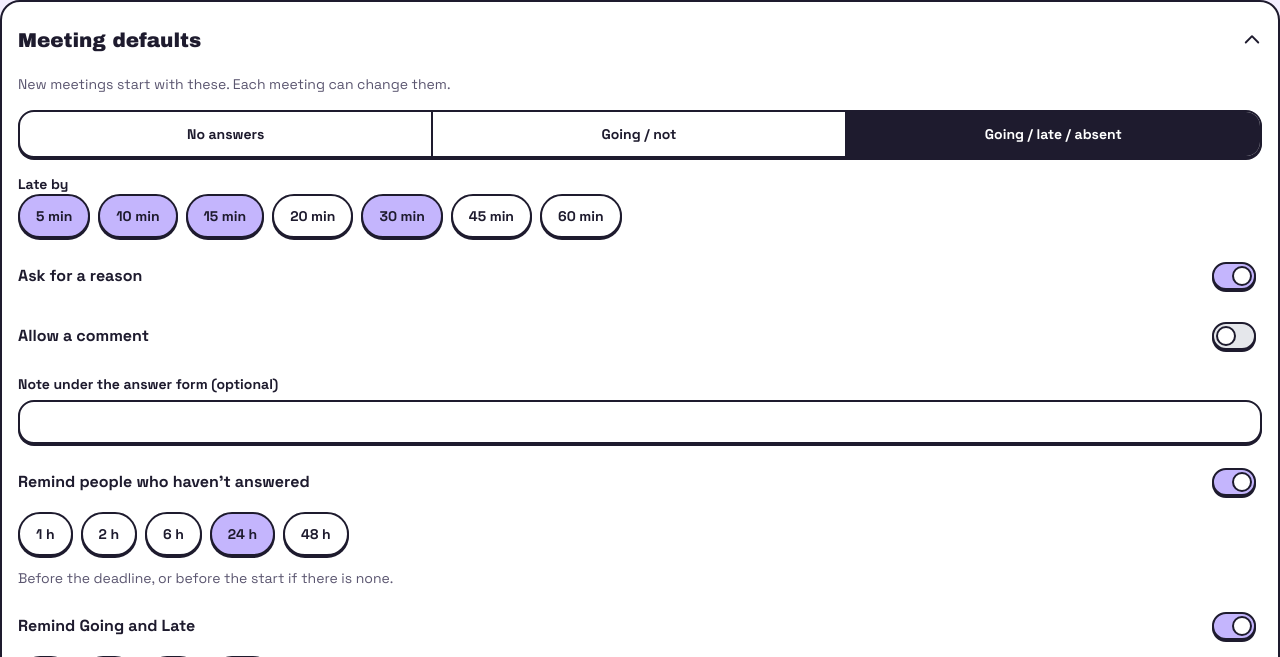
Scenario: MeetingDefaultsSection › hides delays outside attendance mode
Click the radio button labelled "Going / not" at (640, 134), box [433,112,847,156]
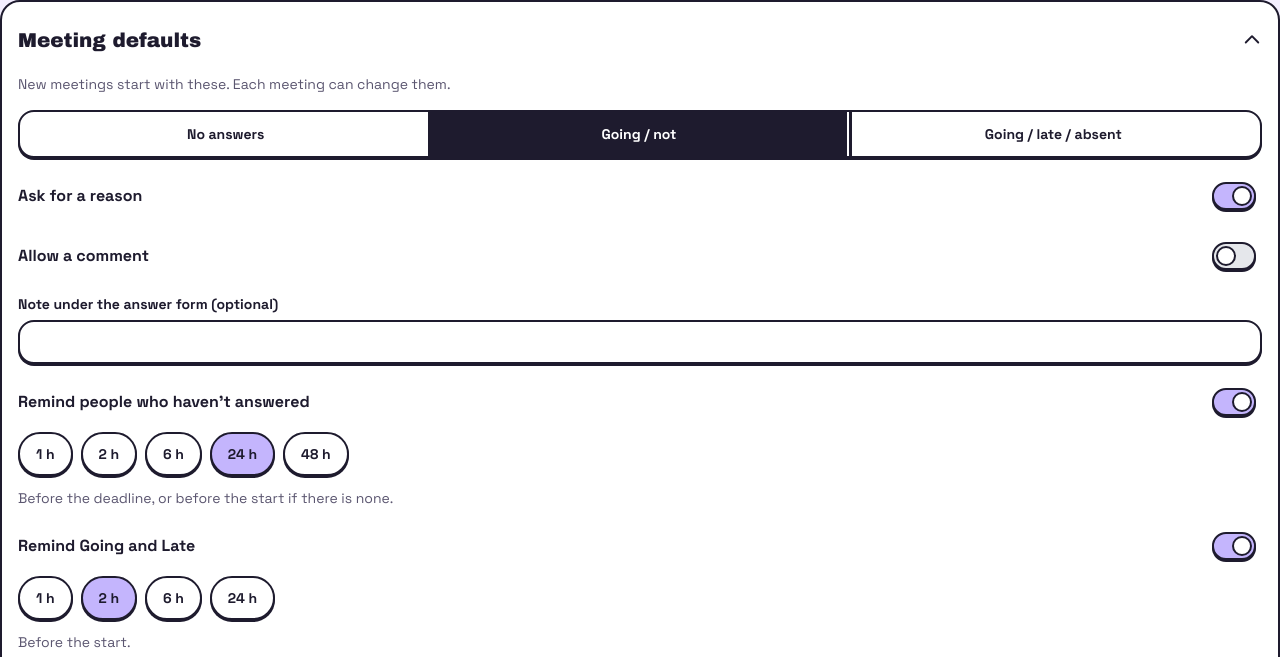
Expected: the button "20 min" is gone
